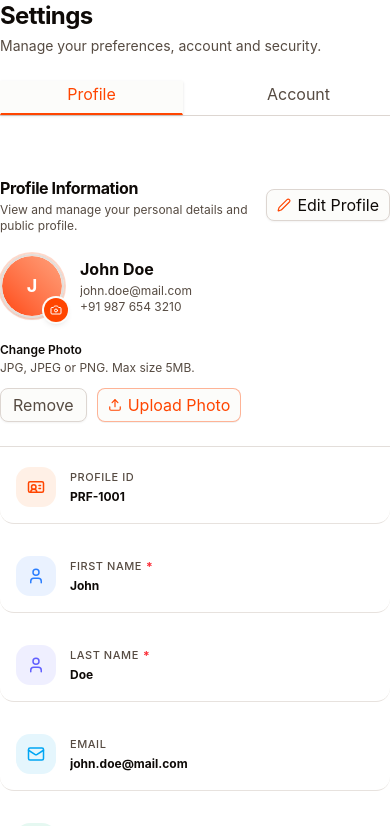
Test: SettingsPage › opens Edit Profile modal from Profile tab
Click the button "Edit Profile" at [328, 205], box [266, 189, 389, 221]
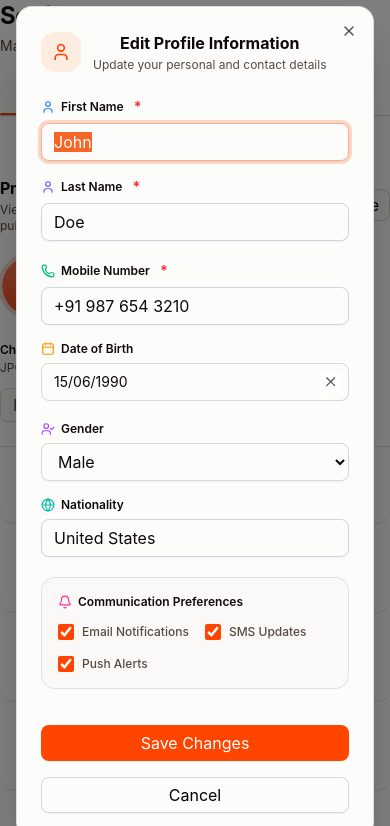
Expected: the heading "Edit Profile Information" is shown, [120, 33, 300, 53]
Expected: the field labelled "First Name" is shown, [41, 123, 349, 161]
Expected: the field labelled "Last Name" is shown, [41, 203, 349, 241]
